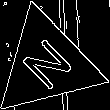N_SE: (15, 32, 79, 96)
